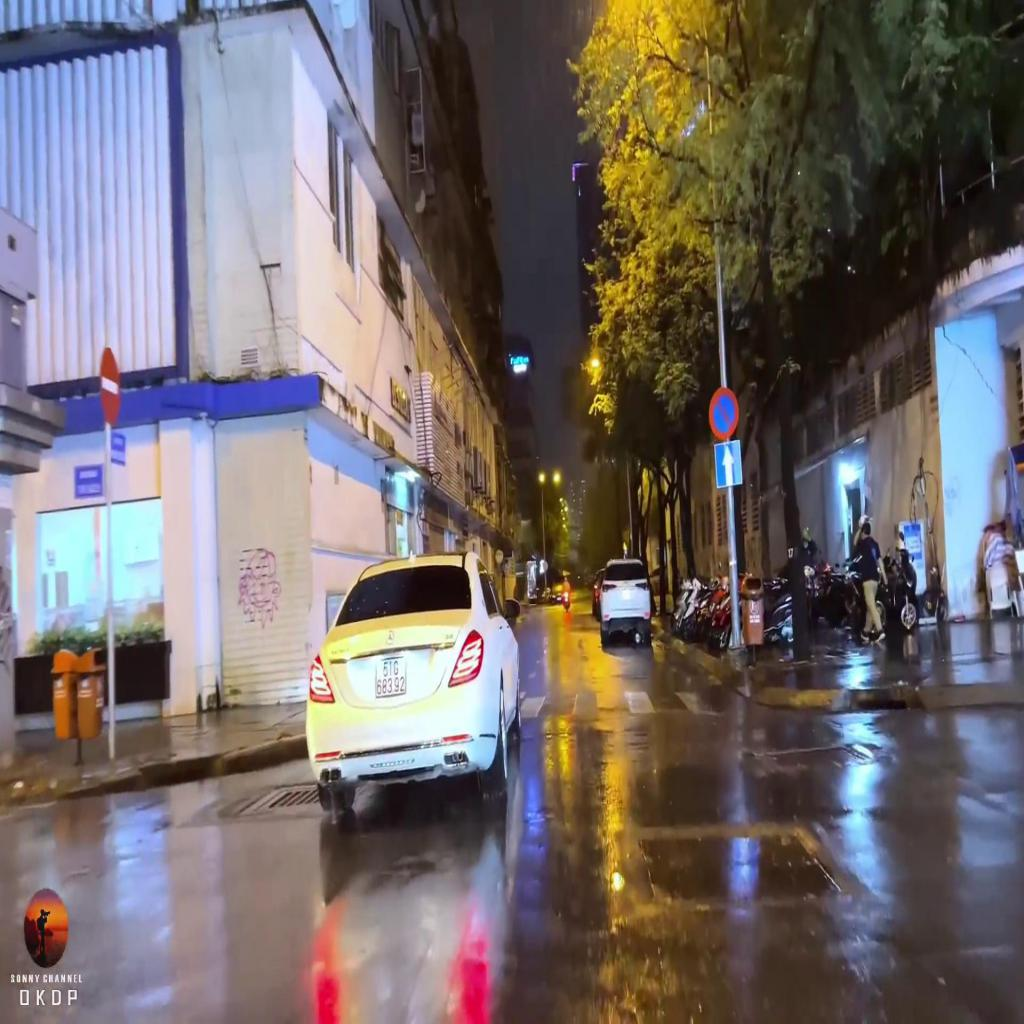cam_do_xe: (708, 384, 738, 443)
cam_xe_di_nguoc_chieu: (100, 348, 122, 424)
duong_mot_chieu: (715, 441, 742, 488)
